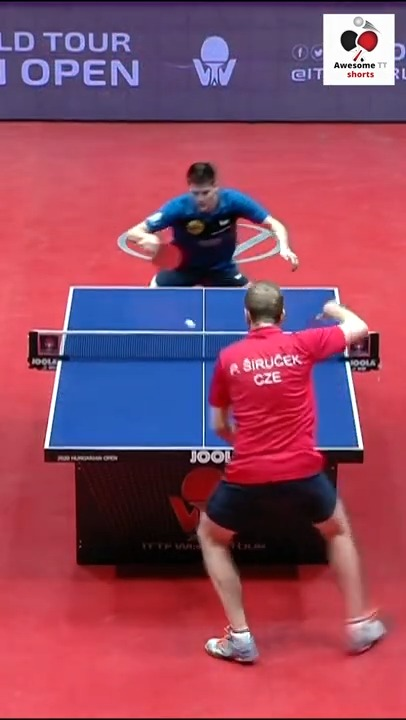Ball: (182, 317, 197, 329)
